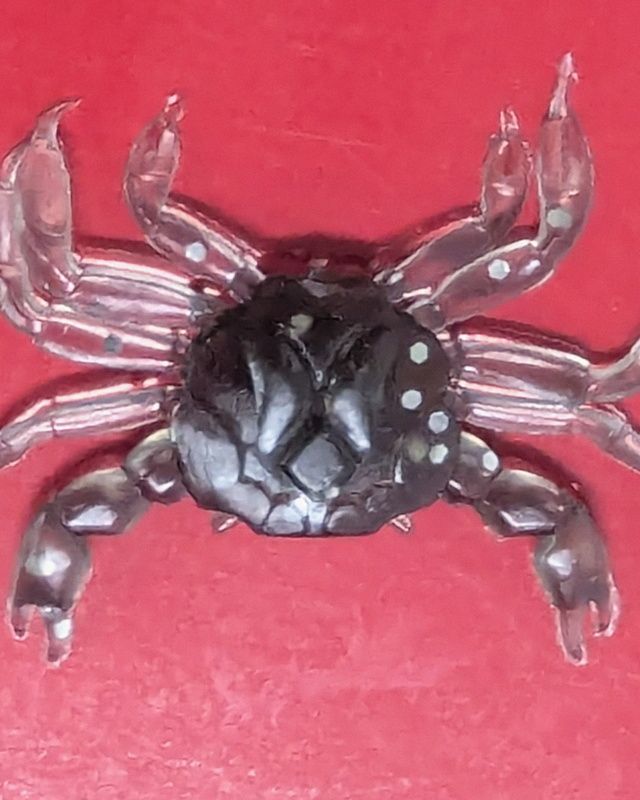crab1: (2, 51, 640, 672)
